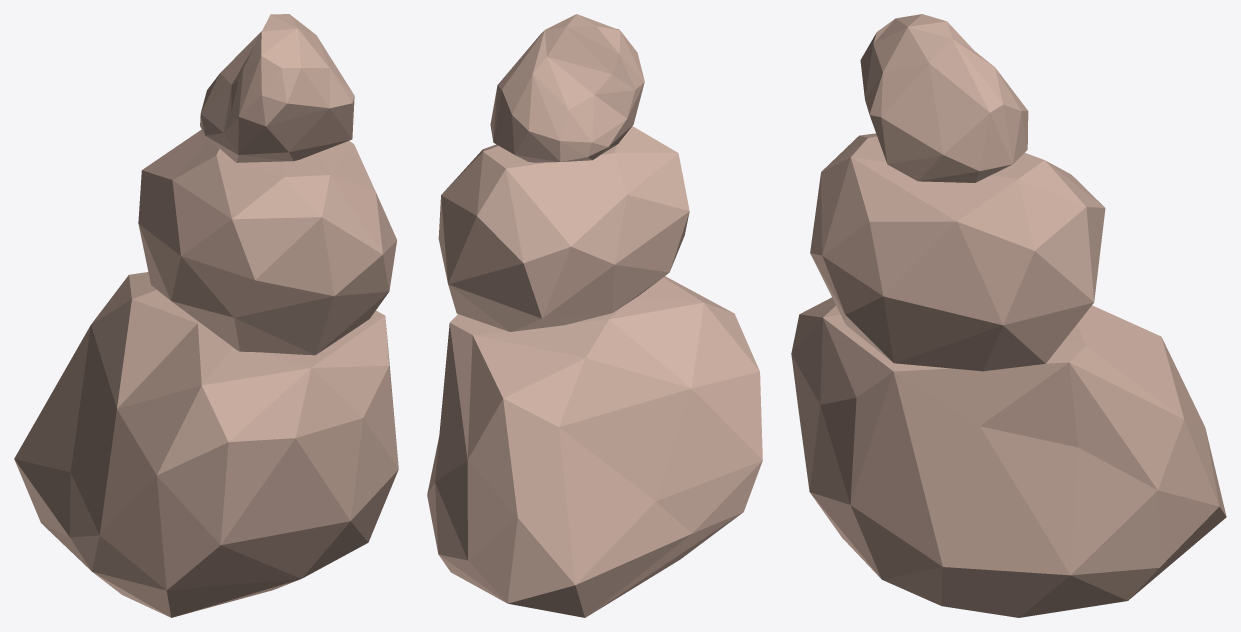
File: stos_1.2.obj
3 views of the same model, side by side, from view 1: azimuth 30°, elevation 25°; view 2: azimuth 150°, elevation 25°; view 3: azimuth 270°, elevation 25° (orthographic). The views are drawn at different scales.
Visible parts, largest first — view 1: rock; view 2: rock; view 3: rock.
Part boxes in pixels (x1,y1,x2,y2): rock: (14, 14, 398, 617); rock: (427, 14, 762, 617); rock: (791, 14, 1226, 617).
Bounding box in the file's own units: 7.09 × 12.1 × 8.53.
